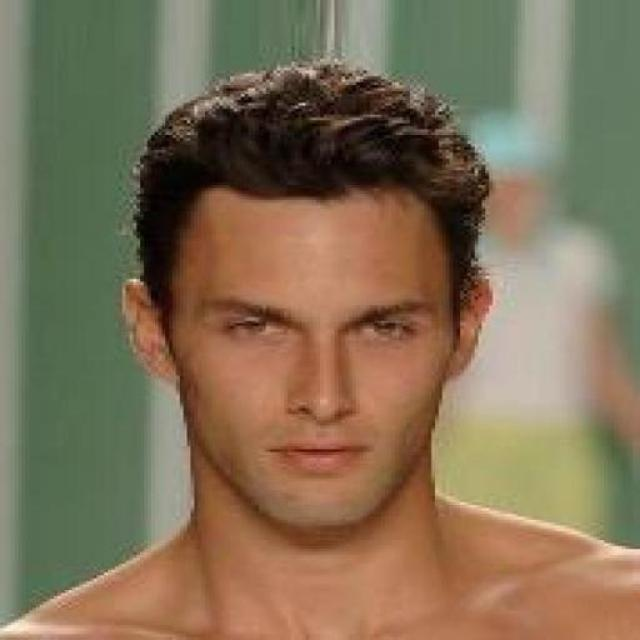bareface: (166, 122, 466, 530)
